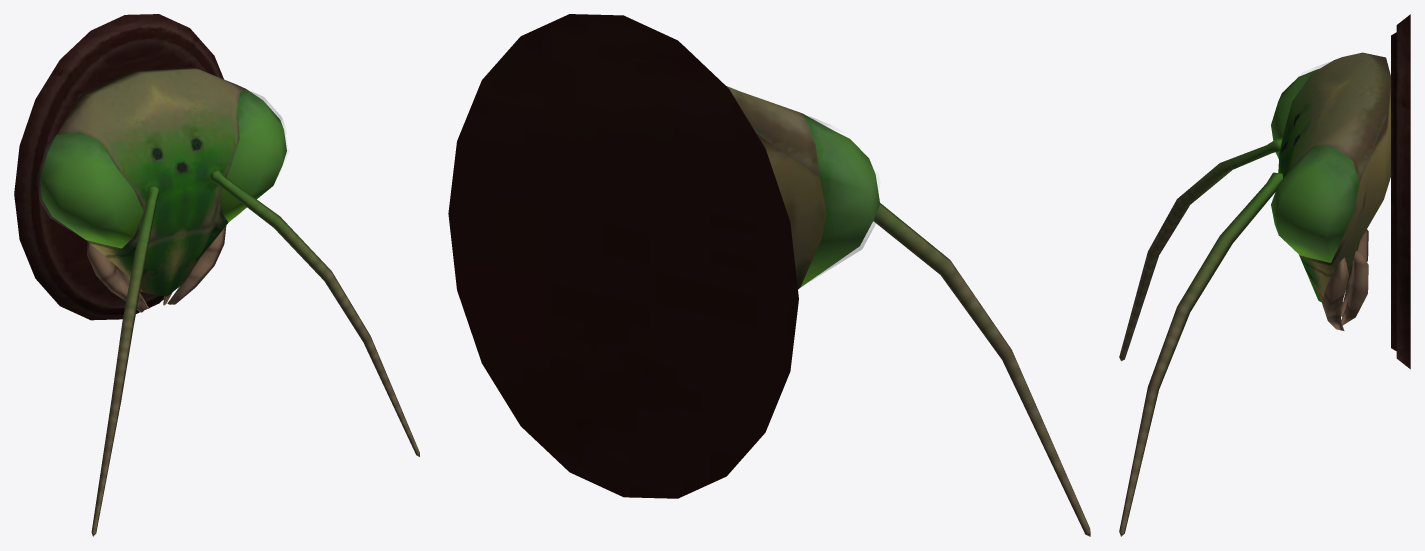
3 views of the same model, side by side, from view 1: azimuth 30°, elevation 25°; view 2: azimuth 150°, elevation 25°; view 3: azimuth 270°, elevation 25° (orthographic). The views are drawn at different scales.
Bounding box in the file's own units: 7.12 × 8 × 4.97.
4 materials, 4 textured.
